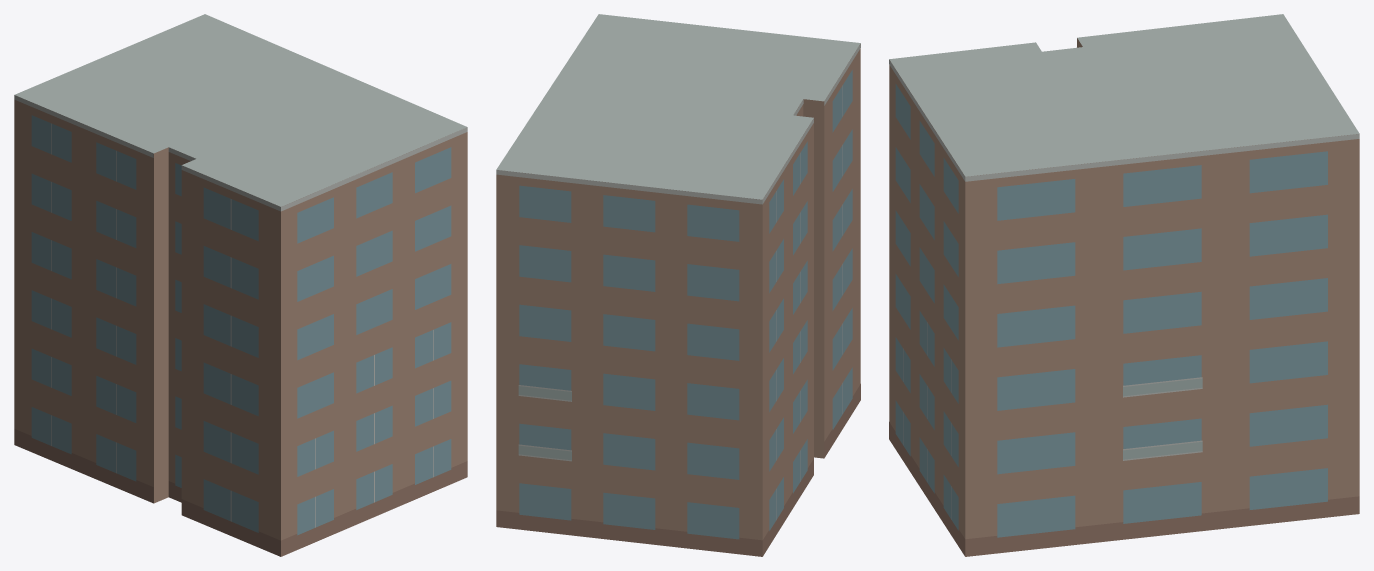
File: survey-upis-32721316.glb
3 views of the same model, side by side, from view 1: azimuth 30°, elevation 25°; view 2: azimuth 150°, elevation 25°; view 3: azimuth 270°, elevation 25° (orthographic). The views are drawn at different scales.
Visible parts, largest first — view 1: survey-upis-32721316.tmp; view 2: survey-upis-32721316.tmp; view 3: survey-upis-32721316.tmp.
Part boxes in pixels (bbox=[...]): survey-upis-32721316.tmp: bbox=[14, 14, 467, 556]; survey-upis-32721316.tmp: bbox=[496, 14, 860, 556]; survey-upis-32721316.tmp: bbox=[889, 14, 1359, 556].
Size of the model in its own units: 16.81 by 18.3 by 20.54.
